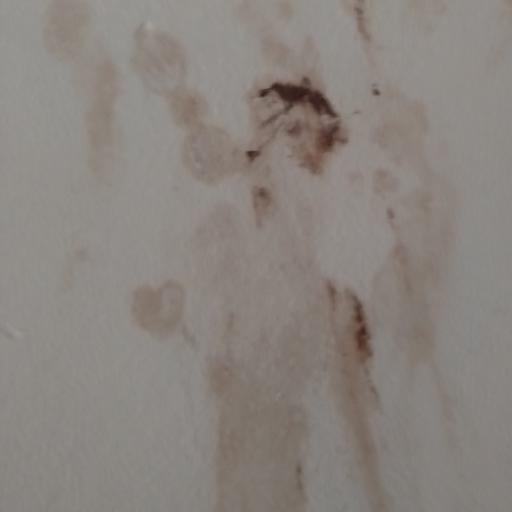stain: (38, 0, 451, 512)
